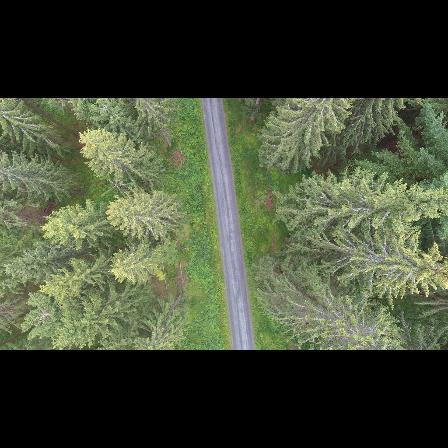Sick: (24, 299, 57, 336)
